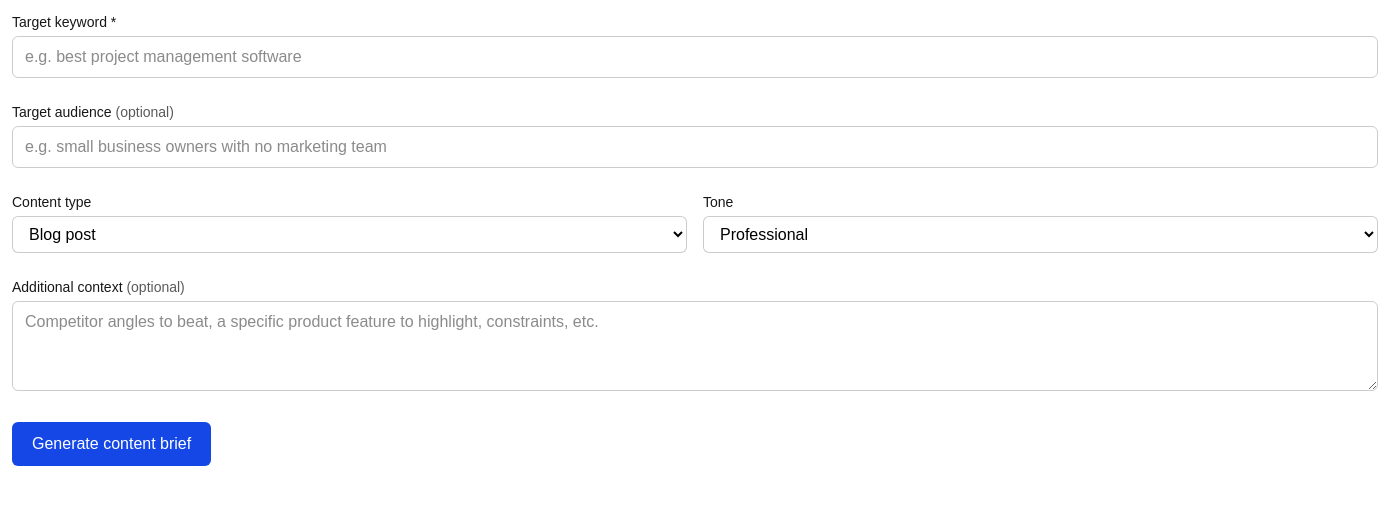
it: BriefForm › blocks submission and shows an error when the keyword is too short
Type "ab" into the field labelled "Target keyword *" at point(695, 57), box [12, 36, 1378, 78]
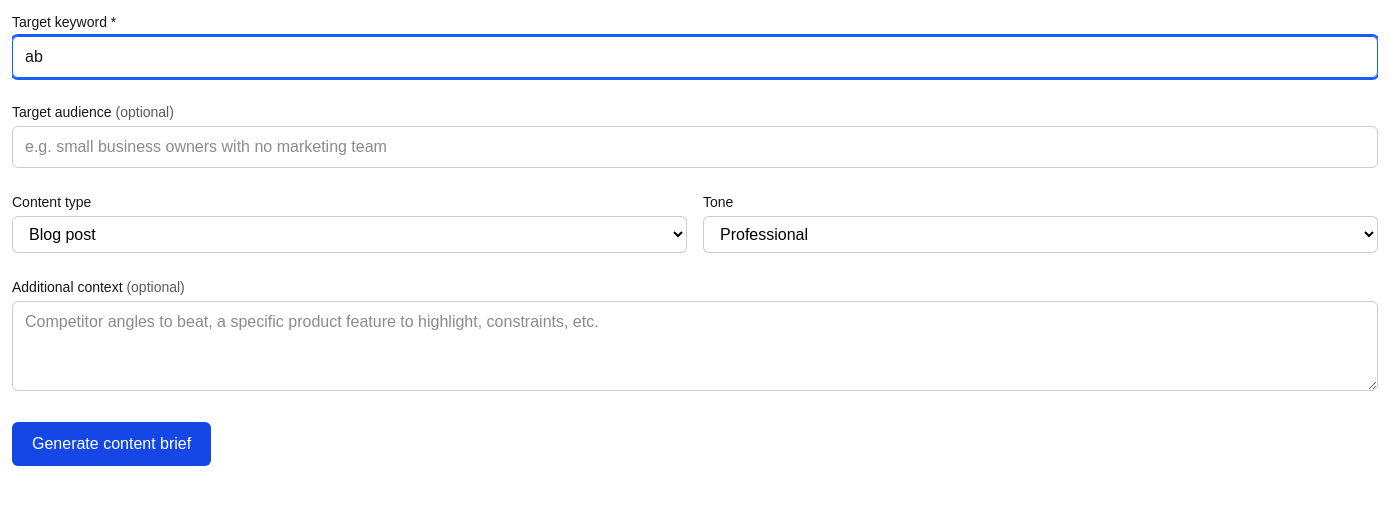
Click the button "Generate content brief" at point(112, 444), box [12, 422, 211, 466]
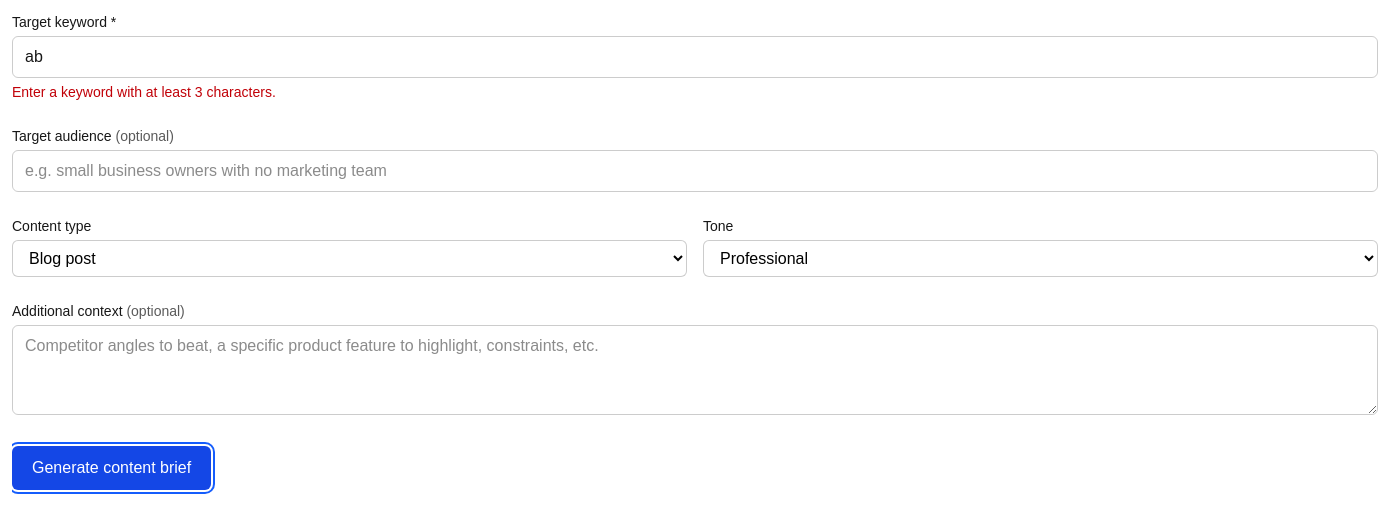
Check: the message shows "at least 3 characters", box [12, 84, 276, 100]
